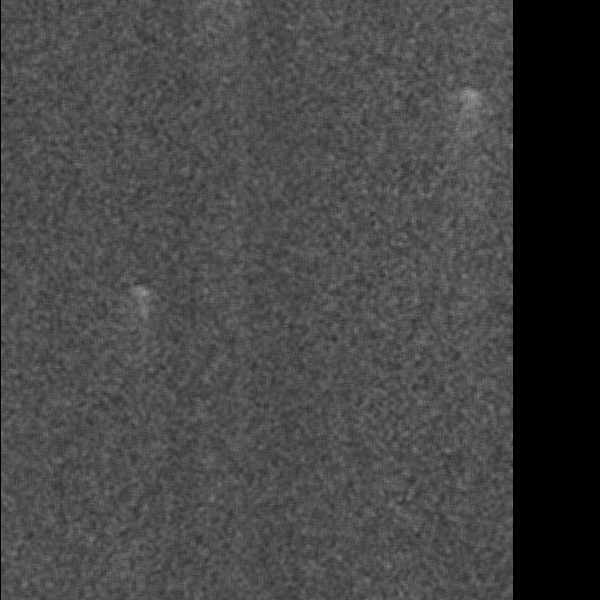spark: (454, 83, 487, 133), (126, 286, 153, 315)
